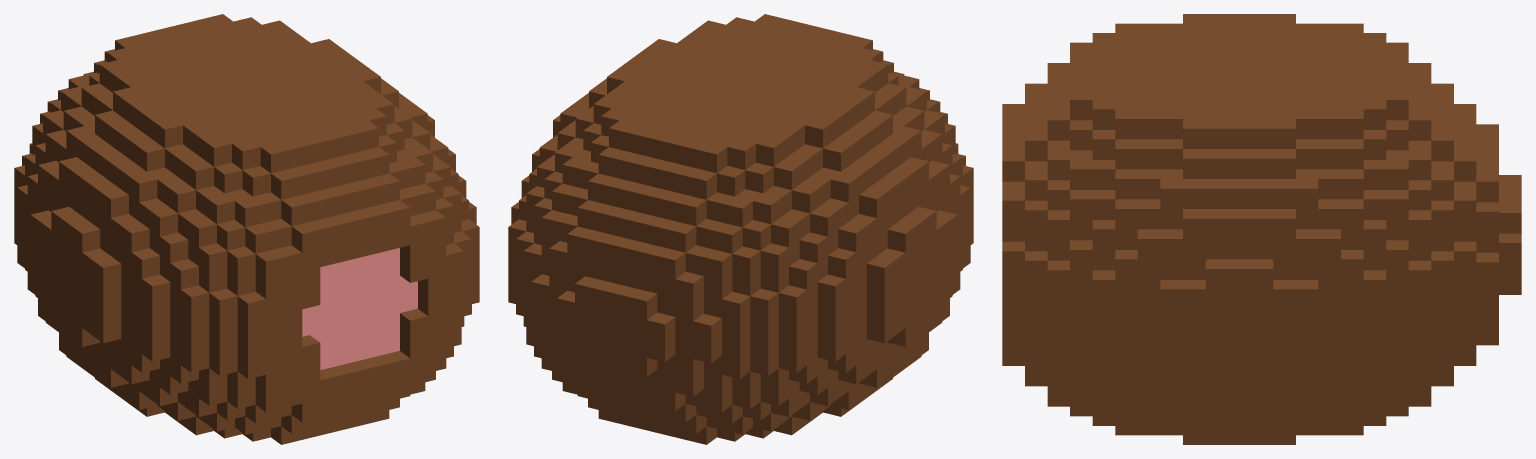
Rendered from kapibara-3.obj.
The picture shows the model from 3 angles, left to right: view 1: azimuth 30°, elevation 25°; view 2: azimuth 150°, elevation 25°; view 3: azimuth 270°, elevation 25°; orthographic projection. The views are drawn at different scales.
Bounding box in the file's own units: 2 × 1.5 × 2.3.
Materials: 1 (1 with a texture image).
